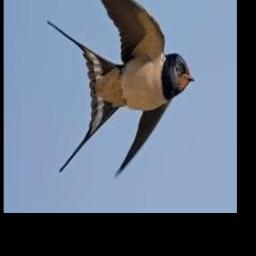Swallow: (47, 0, 194, 177)
